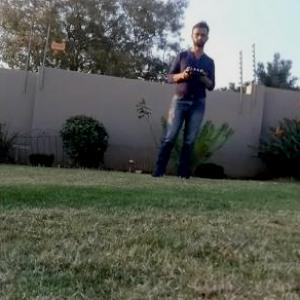follow: (144, 14, 217, 183)
